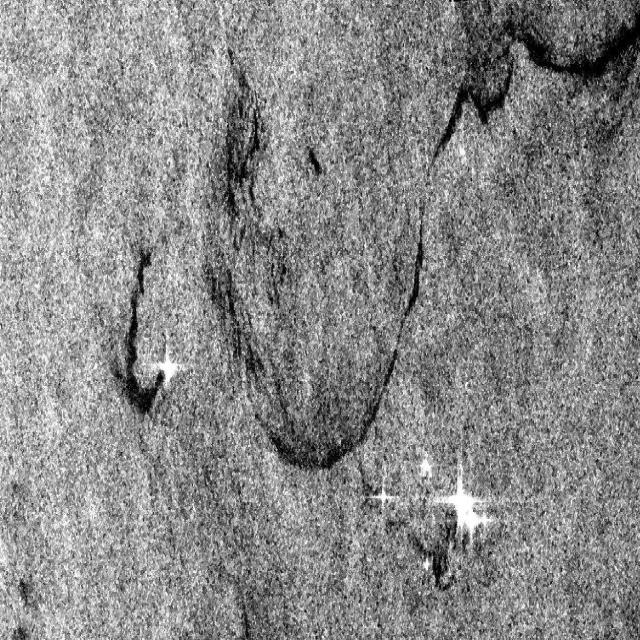oil-spill: (305, 213, 428, 477), (201, 260, 305, 480), (208, 63, 294, 291), (429, 20, 514, 156), (104, 246, 166, 419), (522, 11, 633, 99), (302, 134, 324, 186)
ship: (441, 479, 493, 547), (157, 346, 182, 385), (374, 479, 390, 515), (416, 454, 434, 481), (423, 558, 432, 576)
